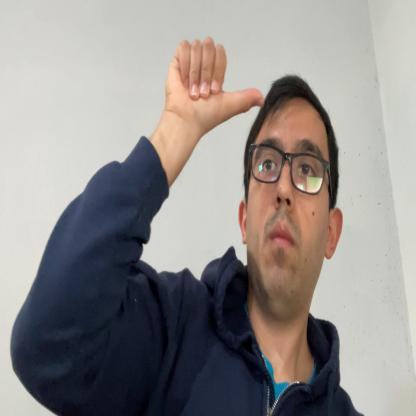A: (166, 34, 266, 126)
